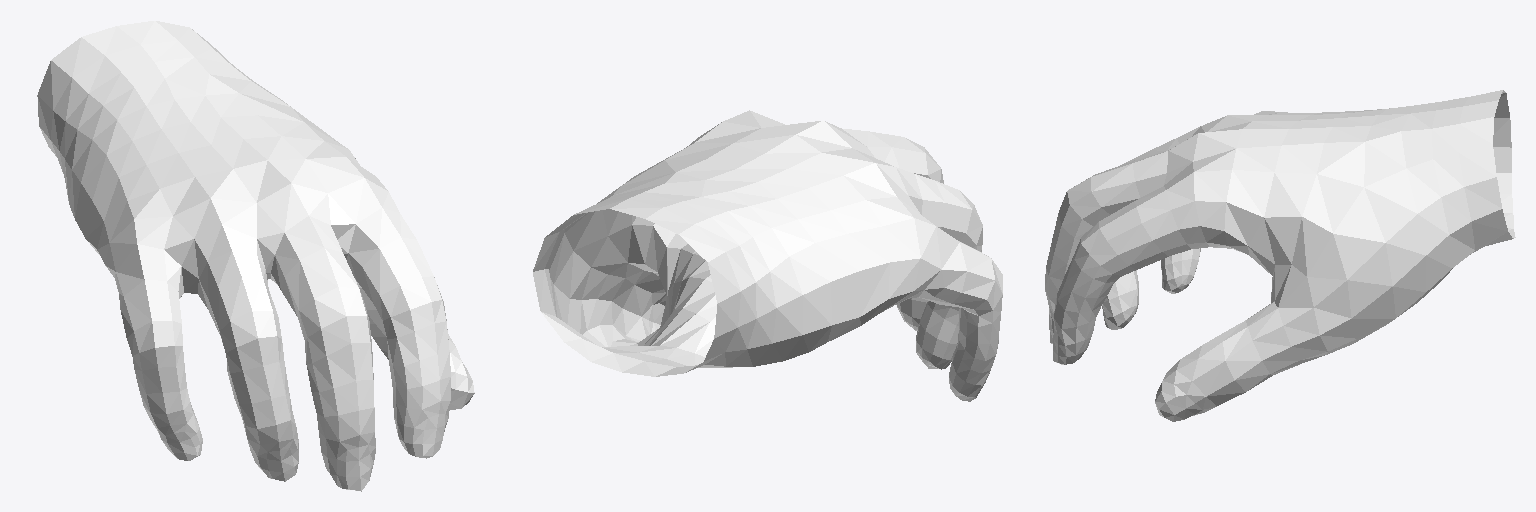
URDF robot description (mano_urdf):
?<?xml version="1.0" encoding="utf-8"?>
<robot name="mano_urdf">
  <material name="Default-Material">
    <color rgba="1 1 1 1" />
  </material>
  <link name="m_avg_R_Wrist">
    <inertial>
      <origin rpy="0 0 0" xyz="0.0044 -0.047022 -0.008366" />
      <mass value="1" />
      <inertia ixx="0.00109904038254172" ixy="0" ixz="0" iyy="0.000653819763101637" iyz="0" izz="0.00139977678190917" />
    </inertial>
    <visual>
      <geometry>
        <mesh filename="meshes/m_avg_R_Wrist.stl" scale="1 1 1" />
      </geometry>
      <material name="Default-Material">
        <color rgba="1 1 1 1" />
      </material>
    </visual>
    <collision>
      <geometry>
        <mesh filename="meshes/m_avg_R_Wrist.stl" scale="1 1 1" />
      </geometry>
    </collision>
  </link>
  <link name="m_avg_rthumb0">
    <inertial>
      <origin rpy="0 0 0" xyz="0.01383 -0.013966 -0.001634" />
      <mass value="1" />
      <inertia ixx="0.000241358589846641" ixy="0" ixz="0" iyy="0.00012638556654565" iyz="0" izz="0.00018645211821422" />
    </inertial>
    <visual>
      <geometry>
        <mesh filename="meshes/m_avg_rthumb0.stl" scale="1 1 1" />
      </geometry>
      <material name="Default-Material">
        <color rgba="1 1 1 1" />
      </material>
    </visual>
    <collision>
      <geometry>
        <mesh filename="meshes/m_avg_rthumb0.stl" scale="1 1 1" />
      </geometry>
    </collision>
  </link>
  <link name="m_avg_rthumb1">
    <inertial>
      <origin rpy="0 0 0" xyz="0.002409 -0.010191 -0.004398" />
      <mass value="1" />
      <inertia ixx="0.000137705457746051" ixy="0" ixz="0" iyy="0.000112540466943756" iyz="0" izz="7.85393785918131E-05" />
    </inertial>
    <visual>
      <geometry>
        <mesh filename="meshes/m_avg_rthumb1.stl" scale="1 1 1" />
      </geometry>
      <material name="Default-Material">
        <color rgba="1 1 1 1" />
      </material>
    </visual>
    <collision>
      <geometry>
        <mesh filename="meshes/m_avg_rthumb1.stl" scale="1 1 1" />
      </geometry>
    </collision>
  </link>
  <link name="m_avg_rthumb2">
    <inertial>
      <origin rpy="0 0 0" xyz="0.002052 -0.011633 -0.00699" />
      <mass value="1" />
      <inertia ixx="9.85564183793031E-05" ixy="0" ixz="0" iyy="4.4836586312158E-05" iyz="0" izz="9.20520178624429E-05" />
    </inertial>
    <visual>
      <geometry>
        <mesh filename="meshes/m_avg_rthumb2.stl" scale="1 1 1" />
      </geometry>
      <material name="Default-Material">
        <color rgba="1 1 1 1" />
      </material>
    </visual>
    <collision>
      <geometry>
        <mesh filename="meshes/m_avg_rthumb2.stl" scale="1 1 1" />
      </geometry>
    </collision>
  </link>
  <link name="m_avg_rring0">
    <inertial>
      <origin rpy="0 0 0" xyz="-0.000819 -0.014707 -0.004464" />
      <mass value="1" />
      <inertia ixx="9.30240930756554E-05" ixy="0" ixz="0" iyy="4.54689288744703E-05" iyz="0" izz="8.2652026321739E-05" />
    </inertial>
    <visual>
      <geometry>
        <mesh filename="meshes/m_avg_rring0.stl" scale="1 1 1" />
      </geometry>
      <material name="Default-Material">
        <color rgba="1 1 1 1" />
      </material>
    </visual>
    <collision>
      <geometry>
        <mesh filename="meshes/m_avg_rring0.stl" scale="1 1 1" />
      </geometry>
    </collision>
  </link>
  <link name="m_avg_rring1">
    <inertial>
      <origin rpy="0 0 0" xyz="-0.000764 -0.005685 -0.010056" />
      <mass value="1" />
      <inertia ixx="6.83954713167623E-05" ixy="0" ixz="0" iyy="6.08930240559857E-05" iyz="0" izz="3.08715061692055E-05" />
    </inertial>
    <visual>
      <geometry>
        <mesh filename="meshes/m_avg_rring1.stl" scale="1 1 1" />
      </geometry>
      <material name="Default-Material">
        <color rgba="1 1 1 1" />
      </material>
    </visual>
    <collision>
      <geometry>
        <mesh filename="meshes/m_avg_rring1.stl" scale="1 1 1" />
      </geometry>
    </collision>
  </link>
  <link name="m_avg_rring2">
    <inertial>
      <origin rpy="0 0 0" xyz="0.002121 -0.00055 -0.010244" />
      <mass value="1" />
      <inertia ixx="5.40007531526498E-05" ixy="0" ixz="0" iyy="5.00703827128746E-05" iyz="0" izz="2.35556544794235E-05" />
    </inertial>
    <visual>
      <geometry>
        <mesh filename="meshes/m_avg_rring2.stl" scale="1 1 1" />
      </geometry>
      <material name="Default-Material">
        <color rgba="1 1 1 1" />
      </material>
    </visual>
    <collision>
      <geometry>
        <mesh filename="meshes/m_avg_rring2.stl" scale="1 1 1" />
      </geometry>
    </collision>
  </link>
  <link name="m_avg_rpinky0">
    <inertial>
      <origin rpy="0 0 0" xyz="-0.003922 -0.006802 -0.001855" />
      <mass value="1" />
      <inertia ixx="8.77590209711343E-05" ixy="0" ixz="0" iyy="4.28525345341768E-05" iyz="0" izz="8.02722643129528E-05" />
    </inertial>
    <visual>
      <geometry>
        <mesh filename="meshes/m_avg_rpinky0.stl" scale="1 1 1" />
      </geometry>
      <material name="Default-Material">
        <color rgba="1 1 1 1" />
      </material>
    </visual>
    <collision>
      <geometry>
        <mesh filename="meshes/m_avg_rpinky0.stl" scale="1 1 1" />
      </geometry>
    </collision>
  </link>
  <link name="m_avg_rpinky1">
    <inertial>
      <origin rpy="0 0 0" xyz="-0.001573 -0.00505 -0.007603" />
      <mass value="1" />
      <inertia ixx="4.5438835513778E-05" ixy="0" ixz="0" iyy="3.80012206733227E-05" iyz="0" izz="2.45332994381897E-05" />
    </inertial>
    <visual>
      <geometry>
        <mesh filename="meshes/m_avg_rpinky1.stl" scale="1 1 1" />
      </geometry>
      <material name="Default-Material">
        <color rgba="1 1 1 1" />
      </material>
    </visual>
    <collision>
      <geometry>
        <mesh filename="meshes/m_avg_rpinky1.stl" scale="1 1 1" />
      </geometry>
    </collision>
  </link>
  <link name="m_avg_rpinky2">
    <inertial>
      <origin rpy="0 0 0" xyz="0.001694 -0.001632 -0.008199" />
      <mass value="1" />
      <inertia ixx="4.12534209317528E-05" ixy="0" ixz="0" iyy="3.72840113413986E-05" iyz="0" izz="1.83869724423857E-05" />
    </inertial>
    <visual>
      <geometry>
        <mesh filename="meshes/m_avg_rpinky2.stl" scale="1 1 1" />
      </geometry>
      <material name="Default-Material">
        <color rgba="1 1 1 1" />
      </material>
    </visual>
    <collision>
      <geometry>
        <mesh filename="meshes/m_avg_rpinky2.stl" scale="1 1 1" />
      </geometry>
    </collision>
  </link>
  <link name="m_avg_rmiddle0">
    <inertial>
      <origin rpy="0 0 0" xyz="-0.00245 -0.012013 -0.002032" />
      <mass value="1" />
      <inertia ixx="0.000124484547995962" ixy="0" ixz="0" iyy="5.67652714380529E-05" iyz="0" izz="0.000130325250211172" />
    </inertial>
    <visual>
      <geometry>
        <mesh filename="meshes/m_avg_rmiddle0.stl" scale="1 1 1" />
      </geometry>
      <material name="Default-Material">
        <color rgba="1 1 1 1" />
      </material>
    </visual>
    <collision>
      <geometry>
        <mesh filename="meshes/m_avg_rmiddle0.stl" scale="1 1 1" />
      </geometry>
    </collision>
  </link>
  <link name="m_avg_rmiddle1">
    <inertial>
      <origin rpy="0 0 0" xyz="-0.001143 -0.006532 -0.007041" />
      <mass value="1" />
      <inertia ixx="7.1596892667003E-05" ixy="0" ixz="0" iyy="8.00169218564406E-05" iyz="0" izz="3.95673523598816E-05" />
    </inertial>
    <visual>
      <geometry>
        <mesh filename="meshes/m_avg_rmiddle1.stl" scale="1 1 1" />
      </geometry>
      <material name="Default-Material">
        <color rgba="1 1 1 1" />
      </material>
    </visual>
    <collision>
      <geometry>
        <mesh filename="meshes/m_avg_rmiddle1.stl" scale="1 1 1" />
      </geometry>
    </collision>
  </link>
  <link name="m_avg_rmiddle2">
    <inertial>
      <origin rpy="0 0 0" xyz="0.00041 -0.001951 -0.010689" />
      <mass value="1" />
      <inertia ixx="6.24742242507637E-05" ixy="0" ixz="0" iyy="6.7607601522468E-05" iyz="0" izz="2.90013704216108E-05" />
    </inertial>
    <visual>
      <geometry>
        <mesh filename="meshes/m_avg_rmiddle2.stl" scale="1 1 1" />
      </geometry>
      <material name="Default-Material">
        <color rgba="1 1 1 1" />
      </material>
    </visual>
    <collision>
      <geometry>
        <mesh filename="meshes/m_avg_rmiddle2.stl" scale="1 1 1" />
      </geometry>
    </collision>
  </link>
  <link name="m_avg_rindex0">
    <inertial>
      <origin rpy="0 0 0" xyz="0.001131 -0.017672 -0.002629" />
      <mass value="1" />
      <inertia ixx="0.000103983998997137" ixy="0" ixz="0" iyy="5.81014610361308E-05" iyz="0" izz="0.000109463297121692" />
    </inertial>
    <visual>
      <geometry>
        <mesh filename="meshes/m_avg_rindex0.stl" scale="1 1 1" />
      </geometry>
      <material name="Default-Material">
        <color rgba="1 1 1 1" />
      </material>
    </visual>
    <collision>
      <geometry>
        <mesh filename="meshes/m_avg_rindex0.stl" scale="1 1 1" />
      </geometry>
    </collision>
  </link>
  <link name="m_avg_rindex1">
    <inertial>
      <origin rpy="0 0 0" xyz="-0.001141 -0.007378 -0.008323" />
      <mass value="1" />
      <inertia ixx="5.5038934078766E-05" ixy="0" ixz="0" iyy="6.18516714894213E-05" iyz="0" izz="4.1143339331029E-05" />
    </inertial>
    <visual>
      <geometry>
        <mesh filename="meshes/m_avg_rindex1.stl" scale="1 1 1" />
      </geometry>
      <material name="Default-Material">
        <color rgba="1 1 1 1" />
      </material>
    </visual>
    <collision>
      <geometry>
        <mesh filename="meshes/m_avg_rindex1.stl" scale="1 1 1" />
      </geometry>
    </collision>
  </link>
  <link name="m_avg_rindex2">
    <inertial>
      <origin rpy="0 0 0" xyz="-0.001025 -0.002633 -0.009251" />
      <mass value="1" />
      <inertia ixx="5.64061010663863E-05" ixy="0" ixz="0" iyy="6.13567608525045E-05" iyz="0" izz="3.02133448712993E-05" />
    </inertial>
    <visual>
      <geometry>
        <mesh filename="meshes/m_avg_rindex2.stl" scale="1 1 1" />
      </geometry>
      <material name="Default-Material">
        <color rgba="1 1 1 1" />
      </material>
    </visual>
    <collision>
      <geometry>
        <mesh filename="meshes/m_avg_rindex2.stl" scale="1 1 1" />
      </geometry>
    </collision>
  </link>
  <joint name="m_avg_R_Wrist_m_avg_rthumb0_joint" type="revolute">
    <origin xyz="0.02754 -0.040965 -0.026681" />
    <parent link="m_avg_R_Wrist" />
    <child link="m_avg_rthumb0" />
    <axis xyz="0.3954 0.612075 -0.684853" />
    <dynamics damping="0.0500000007450581" friction="0.0500000007450581" />
    <limit lower="-0.523598771542311" upper="0.698131695389748" effort="3.40282346638529E+38" velocity="7" />
  </joint>
  <joint name="m_avg_rthumb0_m_avg_rthumb1_joint" type="revolute">
    <origin xyz="0.018149 -0.0216 -0.011903" />
    <parent link="m_avg_rthumb0" />
    <child link="m_avg_rthumb1" />
    <axis xyz="0 0.604241 -0.796801" />
    <dynamics damping="0.0500000007450581" friction="0.0500000007450581" />
    <limit lower="-0.872664619237185" upper="0.523598771542311" effort="3.40282346638529E+38" velocity="7" />
  </joint>
  <joint name="m_avg_rthumb1_m_avg_rthumb2_joint" type="revolute">
    <origin xyz="0.003384 -0.023355 -0.014209" />
    <parent link="m_avg_rthumb1" />
    <child link="m_avg_rthumb2" />
    <axis xyz="0 0.491766 -0.870728" />
    <dynamics damping="0.0500000007450581" friction="0.0500000007450581" />
    <limit lower="-0.349065847694874" upper="1.04719754308462" effort="3.40282346638529E+38" velocity="7" />
  </joint>
  <joint name="m_avg_R_Wrist_m_avg_rring0_joint" type="revolute">
    <origin xyz="-0.023867 -0.10021 -0.013006" />
    <parent link="m_avg_R_Wrist" />
    <child link="m_avg_rring0" />
    <axis xyz="0.923866 -0.291056 0.248511" />
    <dynamics damping="0.0500000007450581" friction="0.0500000007450581" />
    <limit lower="-0.523598771542311" upper="1.04719754308462" effort="3.40282346638529E+38" velocity="7" />
  </joint>
  <joint name="m_avg_rring0_m_avg_rring1_joint" type="revolute">
    <origin xyz="-0.001146 -0.022404 -0.013868" />
    <parent link="m_avg_rring0" />
    <child link="m_avg_rring1" />
    <axis xyz="0.929116 -0.332569 0.161681" />
    <dynamics damping="0.0500000007450581" friction="0.0500000007450581" />
    <limit lower="-0.698131695389748" upper="0.872664619237185" effort="3.40282346638529E+38" velocity="7" />
  </joint>
  <joint name="m_avg_rring1_m_avg_rring2_joint" type="revolute">
    <origin xyz="0.001506 -0.005525 -0.021117" />
    <parent link="m_avg_rring1" />
    <child link="m_avg_rring2" />
    <axis xyz="0.934743 -0.276618 0.22302" />
    <dynamics damping="0.0500000007450581" friction="0.0500000007450581" />
    <limit lower="-0.349065847694874" upper="1.22173046693206" effort="3.40282346638529E+38" velocity="7" />
  </joint>
  <joint name="m_avg_R_Wrist_m_avg_rpinky0_joint" type="revolute">
    <origin xyz="-0.040315 -0.086954 -0.019786" />
    <parent link="m_avg_R_Wrist" />
    <child link="m_avg_rpinky0" />
    <axis xyz="0.843373 -0.503991 0.186319" />
    <dynamics damping="0.0500000007450581" friction="0.0500000007450581" />
    <limit lower="-0.523598771542311" upper="1.04719754308462" effort="3.40282346638529E+38" velocity="7" />
  </joint>
  <joint name="m_avg_rpinky0_m_avg_rpinky1_joint" type="revolute">
    <origin xyz="-0.005514 -0.013287 -0.012501" />
    <parent link="m_avg_rpinky0" />
    <child link="m_avg_rpinky1" />
    <axis xyz="0.886401 -0.438349 0.148806" />
    <dynamics damping="0.0500000007450581" friction="0.0500000007450581" />
    <limit lower="-0.698131695389748" upper="0.872664619237185" effort="3.40282346638529E+38" velocity="7" />
  </joint>
  <joint name="m_avg_rpinky1_m_avg_rpinky2_joint" type="revolute">
    <origin xyz="0.000954 -0.004849 -0.016267" />
    <parent link="m_avg_rpinky1" />
    <child link="m_avg_rpinky2" />
    <axis xyz="0.756234 -0.620593 0.207303" />
    <dynamics damping="0.0500000007450581" friction="0.0500000007450581" />
    <limit lower="-0.349065847694874" upper="1.22173046693206" effort="3.40282346638529E+38" velocity="7" />
  </joint>
  <joint name="m_avg_R_Wrist_m_avg_rmiddle0_joint" type="revolute">
    <origin xyz="0.0006 -0.111371 -0.010032" />
    <parent link="m_avg_R_Wrist" />
    <child link="m_avg_rmiddle0" />
    <axis xyz="0.987468 -0.15683 0.017671" />
    <dynamics damping="0.0500000007450581" friction="0.0500000007450581" />
    <limit lower="-0.523598771542311" upper="1.04719754308462" effort="3.40282346638529E+38" velocity="7" />
  </joint>
  <joint name="m_avg_rmiddle0_m_avg_rmiddle1_joint" type="revolute">
    <origin xyz="-0.004007 -0.02478 -0.013997" />
    <parent link="m_avg_rmiddle0" />
    <child link="m_avg_rmiddle1" />
    <axis xyz="0.977355 -0.191788 0.089411" />
    <dynamics damping="0.0500000007450581" friction="0.0500000007450581" />
    <limit lower="-0.698131695389748" upper="0.872664619237185" effort="3.40282346638529E+38" velocity="7" />
  </joint>
  <joint name="m_avg_rmiddle1_m_avg_rmiddle2_joint" type="revolute">
    <origin xyz="-0.001247 -0.007788 -0.020519" />
    <parent link="m_avg_rmiddle1" />
    <child link="m_avg_rmiddle2" />
    <axis xyz="0.927807 -0.345264 0.141302" />
    <dynamics damping="0.0500000007450581" friction="0.0500000007450581" />
    <limit lower="-0.349065847694874" upper="1.22173046693206" effort="3.40282346638529E+38" velocity="7" />
  </joint>
  <joint name="m_avg_R_Wrist_m_avg_rindex0_joint" type="revolute">
    <origin xyz="0.025301 -0.102809 -0.012384" />
    <parent link="m_avg_R_Wrist" />
    <child link="m_avg_rindex0" />
    <axis xyz="1 0 0" />
    <dynamics damping="0.0500000007450581" friction="0.0500000007450581" />
    <limit lower="-0.523598771542311" upper="1.04719754308462" effort="3.40282346638529E+38" velocity="7" />
  </joint>
  <joint name="m_avg_rindex0_m_avg_rindex1_joint" type="revolute">
    <origin xyz="0.001124 -0.027963 -0.011452" />
    <parent link="m_avg_rindex0" />
    <child link="m_avg_rindex1" />
    <axis xyz="0.993586 -0.019563 -0.11137" />
    <dynamics damping="0.0500000007450581" friction="0.0500000007450581" />
    <limit lower="-0.698131695389748" upper="0.872664619237185" effort="3.40282346638529E+38" velocity="7" />
  </joint>
  <joint name="m_avg_rindex1_m_avg_rindex2_joint" type="revolute">
    <origin xyz="-0.002104 -0.010287 -0.018698" />
    <parent link="m_avg_rindex1" />
    <child link="m_avg_rindex2" />
    <axis xyz="0.991225 0.048492 -0.12297" />
    <dynamics damping="0.0500000007450581" friction="0.0500000007450581" />
    <limit lower="-0.349065847694874" upper="1.22173046693206" effort="3.40282346638529E+38" velocity="7" />
  </joint>
</robot>

--- Facts derived from the render (not from the file) ---
Views: 3 orthographic renders of the robot side by side, from view 1: azimuth 30°, elevation 25°; view 2: azimuth 150°, elevation 25°; view 3: azimuth 270°, elevation 25°.
Robot: mano_urdf — 16 links, 15 joints (15 revolute); root link m_avg_R_Wrist; default pose: every joint at zero.
Links seen in each view (by area): view 1: m_avg_R_Wrist, m_avg_rmiddle0, m_avg_rindex0, m_avg_rpinky0, m_avg_rmiddle1, m_avg_rring0, m_avg_rring1, m_avg_rindex1, m_avg_rmiddle2, m_avg_rindex2, m_avg_rpinky1, m_avg_rring2 (+2 smaller); view 2: m_avg_R_Wrist, m_avg_rthumb1, m_avg_rthumb0, m_avg_rpinky0, m_avg_rring0, m_avg_rring2, m_avg_rmiddle0, m_avg_rthumb2, m_avg_rpinky1, m_avg_rpinky2, m_avg_rmiddle2; view 3: m_avg_R_Wrist, m_avg_rthumb0, m_avg_rthumb1, m_avg_rindex0, m_avg_rthumb2, m_avg_rmiddle0, m_avg_rindex1, m_avg_rindex2, m_avg_rmiddle1, m_avg_rring2, m_avg_rpinky2, m_avg_rmiddle2.
Link boxes in pixels (x1,y1,x2,y2): m_avg_R_Wrist: (37, 21, 399, 293); m_avg_rmiddle0: (271, 216, 368, 339); m_avg_rindex0: (346, 208, 443, 320); m_avg_rpinky0: (116, 244, 183, 355); m_avg_rmiddle1: (305, 316, 374, 416); m_avg_rring0: (198, 251, 281, 352); m_avg_rring1: (226, 336, 292, 428); m_avg_rindex1: (383, 300, 450, 388); m_avg_rmiddle2: (317, 408, 375, 491); m_avg_rindex2: (391, 377, 450, 458); m_avg_rpinky1: (132, 346, 189, 413); m_avg_rring2: (242, 413, 298, 481); m_avg_R_Wrist: (533, 110, 944, 376); m_avg_rthumb1: (582, 225, 667, 346); m_avg_rthumb0: (554, 209, 694, 346); m_avg_rpinky0: (919, 226, 1002, 315); m_avg_rring0: (915, 174, 982, 247); m_avg_rring2: (916, 301, 958, 369); m_avg_rmiddle0: (843, 129, 940, 181); m_avg_rthumb2: (623, 273, 666, 341); m_avg_rpinky1: (959, 295, 1002, 360); m_avg_rpinky2: (949, 333, 995, 401); m_avg_rmiddle2: (896, 297, 927, 330); m_avg_R_Wrist: (1164, 90, 1515, 317); m_avg_rthumb0: (1248, 217, 1395, 354); m_avg_rthumb1: (1223, 265, 1327, 391); m_avg_rindex0: (1081, 186, 1190, 275); m_avg_rthumb2: (1155, 333, 1245, 421); m_avg_rmiddle0: (1067, 150, 1168, 225); m_avg_rindex1: (1057, 239, 1121, 312); m_avg_rindex2: (1053, 298, 1100, 364); m_avg_rmiddle1: (1046, 192, 1092, 279); m_avg_rring2: (1102, 270, 1138, 329); m_avg_rpinky2: (1161, 248, 1200, 293); m_avg_rmiddle2: (1045, 269, 1062, 343).
Size in the robot's own frame: 0.1158 by 0.1647 by 0.0982 metres.
Meshes: 16 distinct files referenced, 16 mesh visuals loaded (16 ASCII STL).